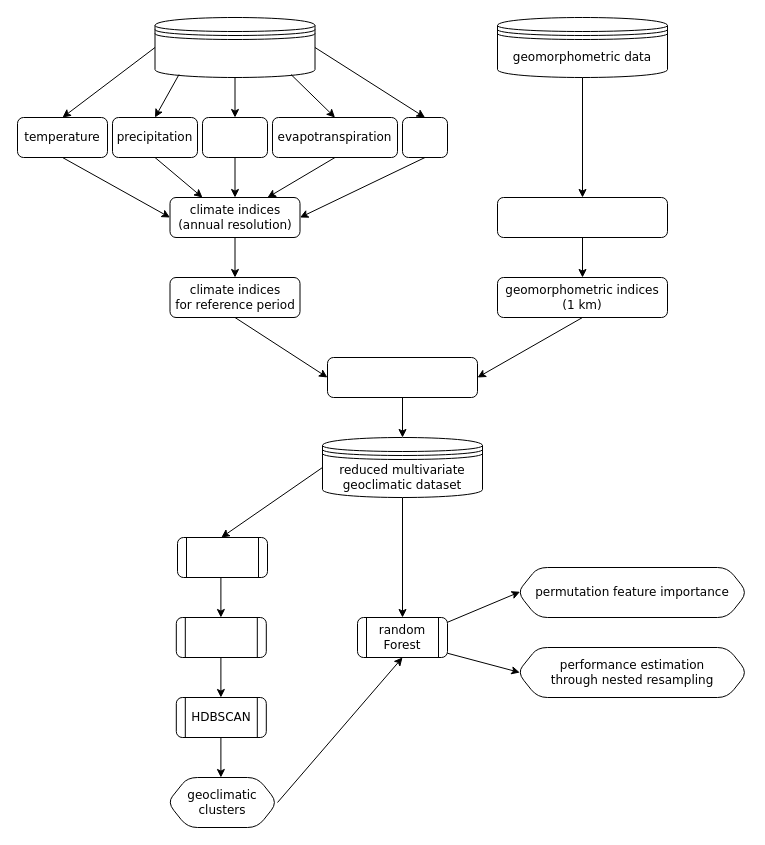
Image size: 765x845. Some labels were removed from this diagram. The shapes that lost their labels are listed below. From the top down, each one's centre as x and y in pixels, then its label:
point (234, 47): meteorological data
point (235, 137): radiation
point (425, 137): snow
point (582, 217): geomorphometric indices (10 m)
point (402, 377): unified multivariate geoclimatic dataset
point (222, 557): PCA
point (220, 637): UMAP
